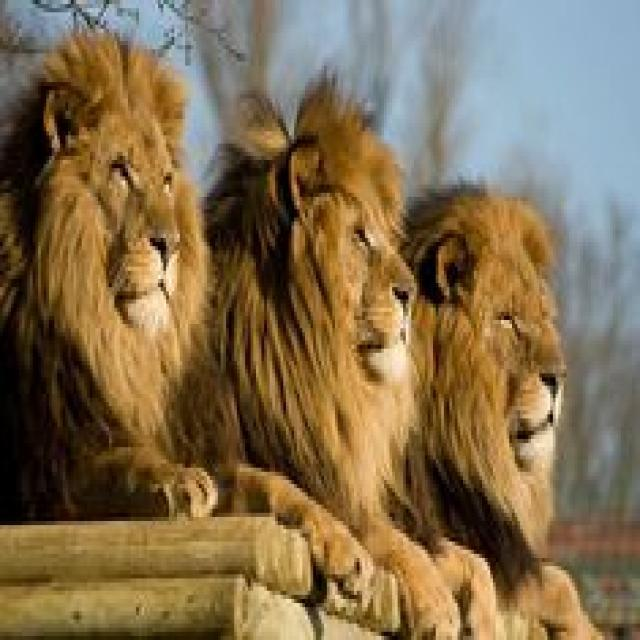lions: (0, 7, 233, 583), (437, 104, 640, 618), (242, 61, 426, 608)
